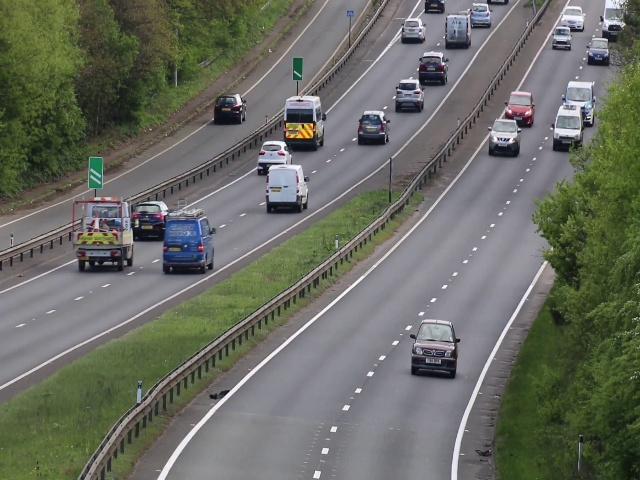car: (70, 196, 133, 271), (412, 316, 459, 380), (162, 217, 215, 271), (283, 96, 325, 148), (264, 166, 309, 211), (551, 106, 584, 149), (488, 118, 522, 154), (357, 109, 390, 146), (213, 91, 248, 125), (133, 198, 161, 240), (444, 12, 472, 48), (503, 90, 537, 119), (419, 51, 448, 84), (396, 78, 424, 112), (259, 139, 288, 165), (401, 16, 426, 43), (589, 35, 609, 64), (562, 5, 584, 31), (470, 4, 493, 26), (551, 27, 572, 50), (603, 12, 622, 35)
